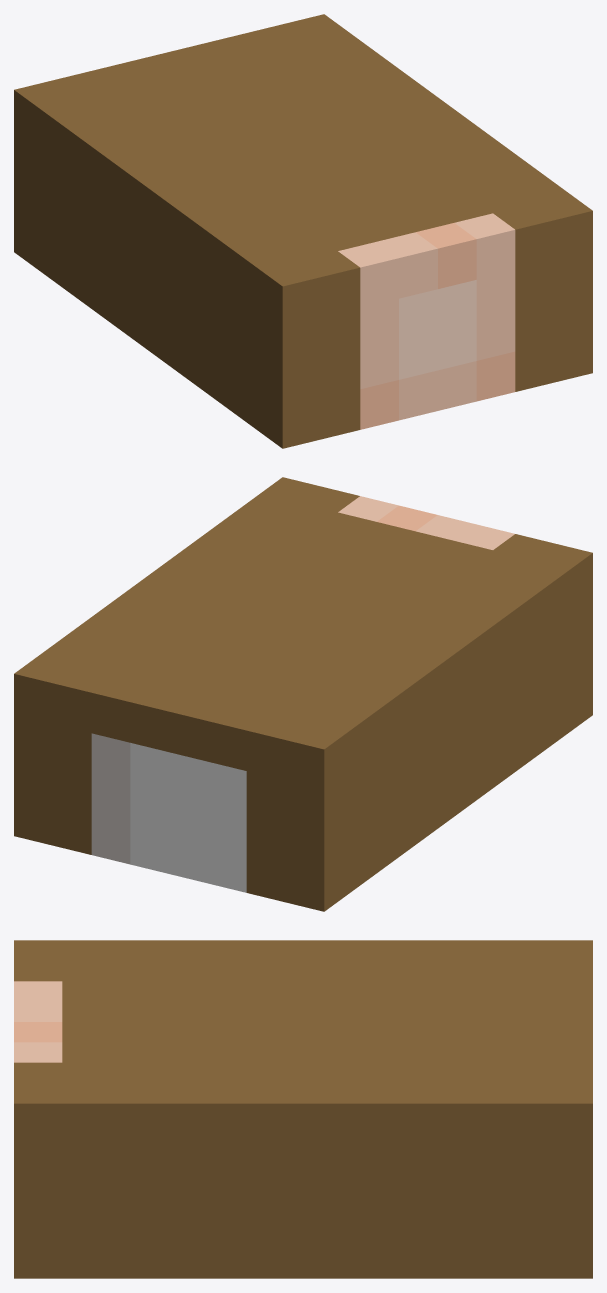
File: body.obj
The picture shows the model from 3 angles, top to bottom: view 1: azimuth 30°, elevation 25°; view 2: azimuth 150°, elevation 25°; view 3: azimuth 270°, elevation 25°; orthographic projection. The views are drawn at different scales.
Size of the model in its own units: 0.8 by 0.4 by 1.2.
Materials: 1 (1 with a texture image).
